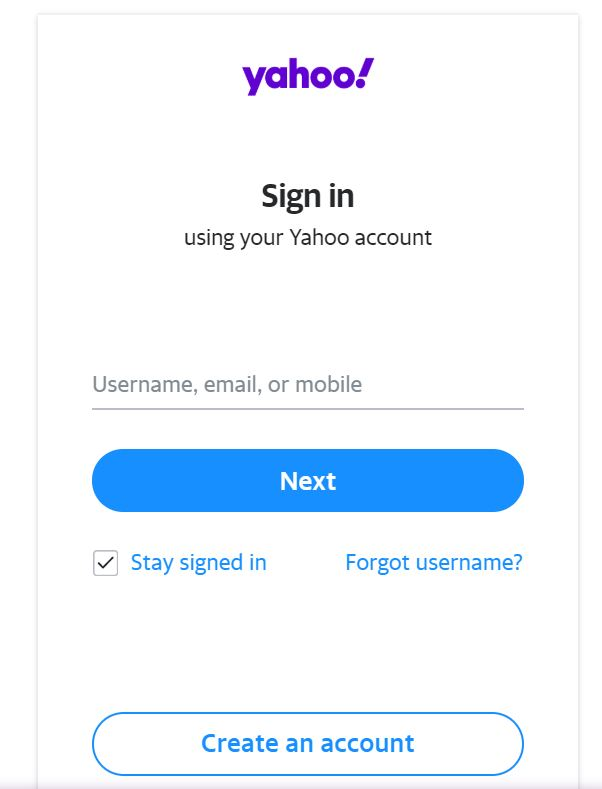button: (71, 442, 531, 519)
textbox: (72, 348, 535, 427)
